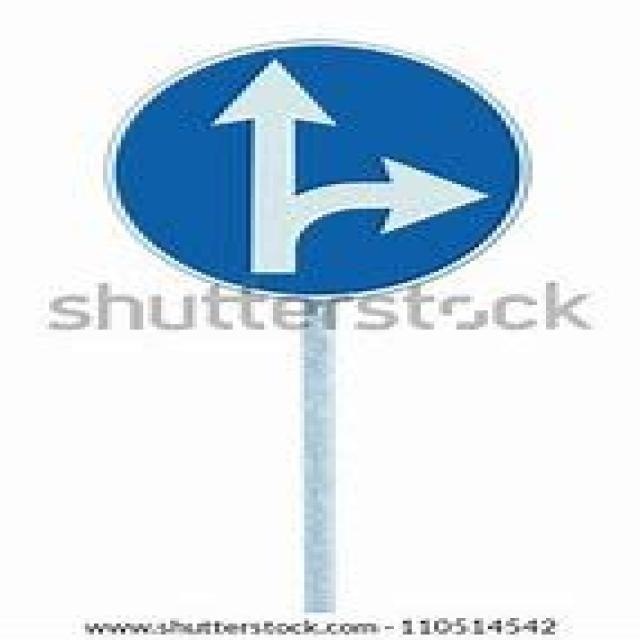COMPULSARY_AHEAD_OR_TURN_RIGHT: (90, 39, 539, 296)
